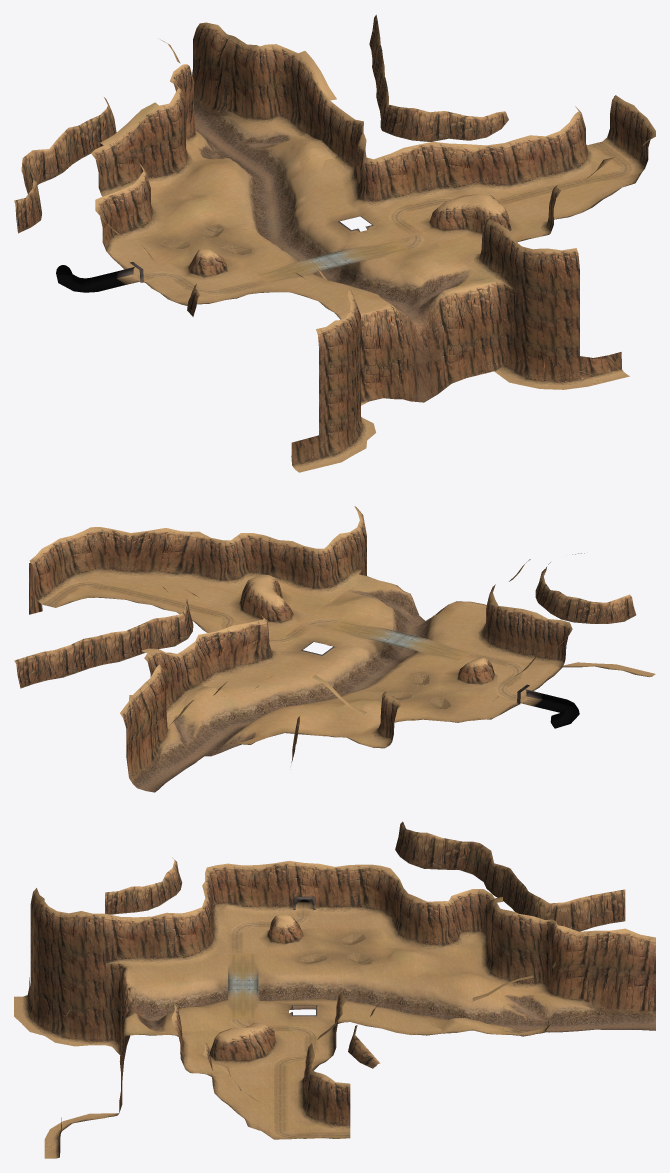
File: Zone03.glb
3 views of the same model, one above another, from view 1: azimuth 30°, elevation 25°; view 2: azimuth 150°, elevation 25°; view 3: azimuth 270°, elevation 25° (orthographic). The views are drawn at different scales.
Visible parts, largest first — view 1: ZONE03006, ZONE03011, ZONE03001, ZONE03021, ZONE03019, ZONE03020, ZONE03017, ZONE03229, ZONE03018, ZONE03204, ZONE03016, ZONE03237 (+43 smaller); view 2: ZONE03082, ZONE03064, ZONE03083, ZONE03172, ZONE03051, ZONE03153, ZONE03046, ZONE03063, ZONE03103, ZONE03143, ZONE03050, ZONE03245 (+63 smaller); view 3: ZONE03010, ZONE03015, ZONE03235, ZONE03240, ZONE03003, ZONE03243, ZONE03218, ZONE03227, ZONE03004, ZONE03142, ZONE03106, ZONE03085 (+54 smaller).
Part boxes in pixels (bbox=[...]): ZONE03006: bbox=[545, 248, 587, 389]; ZONE03011: bbox=[501, 246, 544, 385]; ZONE03001: bbox=[316, 320, 351, 465]; ZONE03021: bbox=[485, 230, 521, 376]; ZONE03019: bbox=[430, 286, 466, 393]; ZONE03020: bbox=[458, 279, 493, 377]; ZONE03017: bbox=[375, 303, 410, 401]; ZONE03229: bbox=[234, 44, 276, 147]; ZONE03018: bbox=[405, 305, 437, 402]; ZONE03204: bbox=[127, 102, 170, 189]; ZONE03016: bbox=[347, 306, 383, 405]; ZONE03237: bbox=[217, 36, 256, 131]; ZONE03082: bbox=[120, 531, 160, 585]; ZONE03064: bbox=[160, 528, 198, 580]; ZONE03083: bbox=[94, 527, 130, 579]; ZONE03172: bbox=[200, 625, 241, 678]; ZONE03051: bbox=[499, 607, 536, 663]; ZONE03153: bbox=[241, 619, 281, 674]; ZONE03046: bbox=[280, 541, 316, 595]; ZONE03063: bbox=[187, 532, 223, 587]; ZONE03103: bbox=[60, 532, 93, 585]; ZONE03143: bbox=[29, 549, 63, 614]; ZONE03050: bbox=[524, 613, 561, 665]; ZONE03245: bbox=[120, 695, 147, 783]; ZONE03010: bbox=[75, 911, 105, 1046]; ZONE03015: bbox=[105, 914, 136, 1048]; ZONE03235: bbox=[564, 926, 595, 1015]; ZONE03240: bbox=[595, 928, 626, 1015]; ZONE03003: bbox=[43, 902, 74, 1035]; ZONE03243: bbox=[625, 928, 655, 1015]; ZONE03218: bbox=[503, 912, 533, 997]; ZONE03227: bbox=[532, 922, 565, 1021]; ZONE03004: bbox=[45, 914, 74, 1046]; ZONE03142: bbox=[319, 1079, 350, 1134]; ZONE03106: bbox=[289, 861, 319, 915]; ZONE03085: bbox=[258, 861, 288, 915].
Size of the model in its own units: 167 by 48.32 by 168.
Materials: 34 (34 with a texture image).
